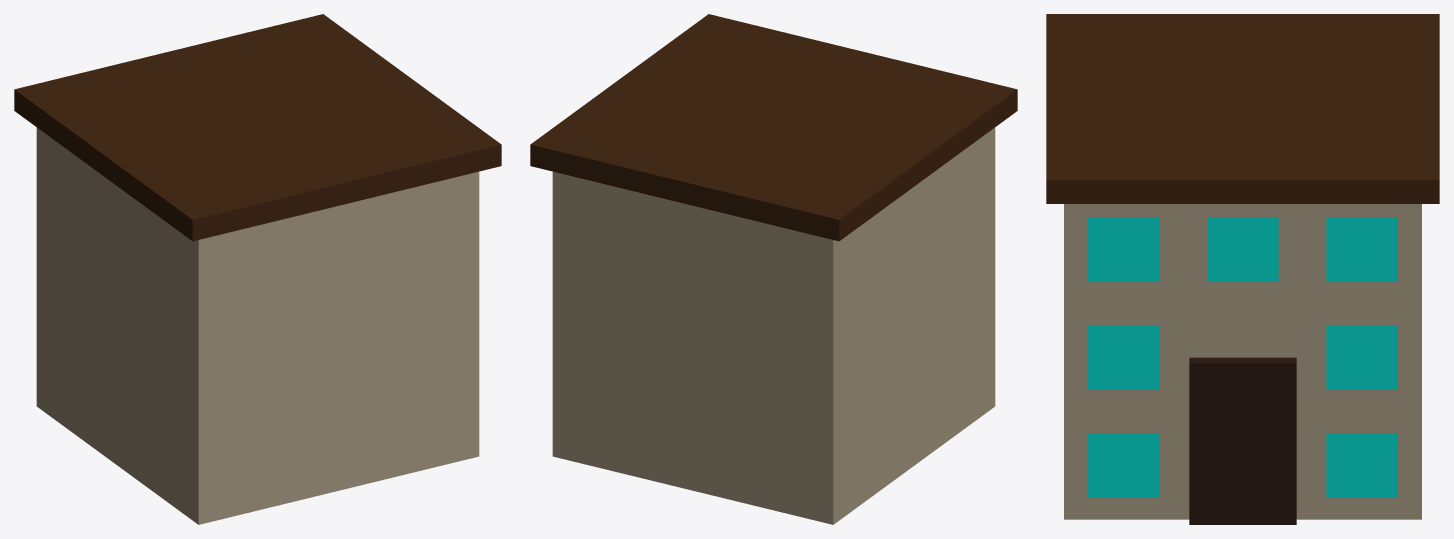
Rendered from house1.glb.
3 views of the same model, side by side, from view 1: azimuth 30°, elevation 25°; view 2: azimuth 150°, elevation 25°; view 3: azimuth 270°, elevation 25° (orthographic). The views are drawn at different scales.
Visible parts, largest first — view 1: House; view 2: House; view 3: House.
Part boxes in pixels (x1,y1,x2,y2): House: [14, 14, 501, 524]; House: [530, 14, 1017, 524]; House: [1046, 14, 1439, 524].
Bounding box in the file's own units: 3.3 × 3.21 × 3.3.
